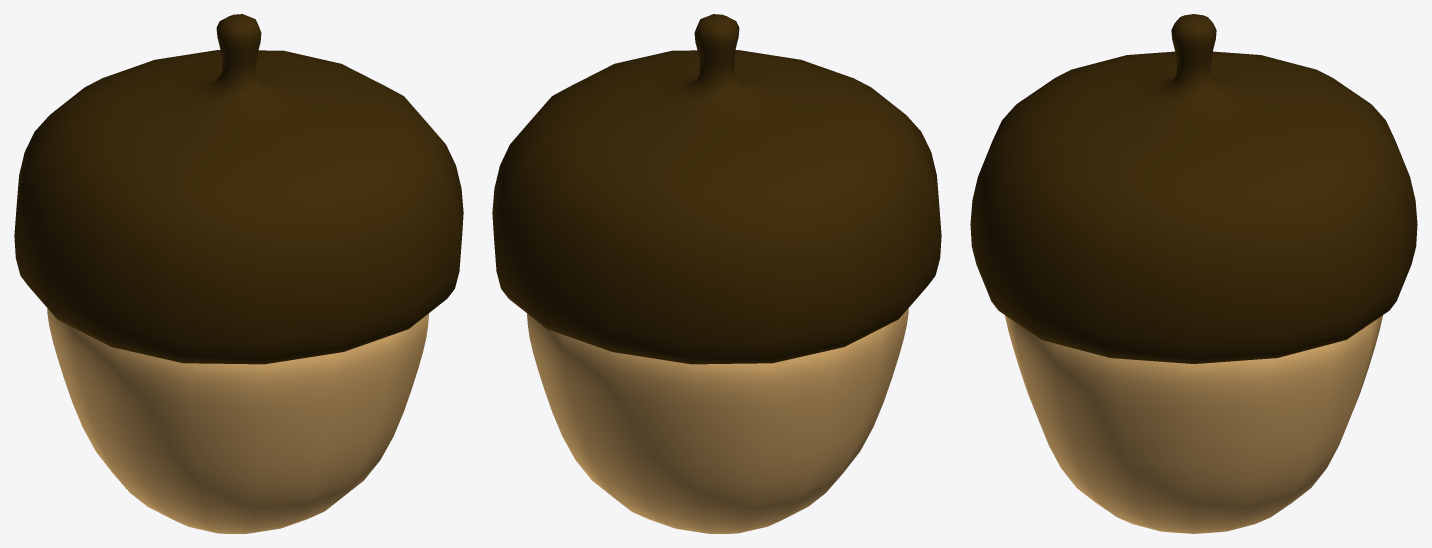
The model's file is Acorn.fbx.
3 views of the same model, side by side, from view 1: azimuth 30°, elevation 25°; view 2: azimuth 150°, elevation 25°; view 3: azimuth 270°, elevation 25° (orthographic).
Parts seen in each view (by area): view 1: Acorn; view 2: Acorn; view 3: Acorn.
Boxes of the visible parts, box(x1,y1,x2,y2) form: Acorn: box(14, 14, 463, 533); Acorn: box(492, 14, 941, 533); Acorn: box(970, 14, 1417, 533).
Size of the model in its own units: 11.56 by 14.32 by 11.56.
